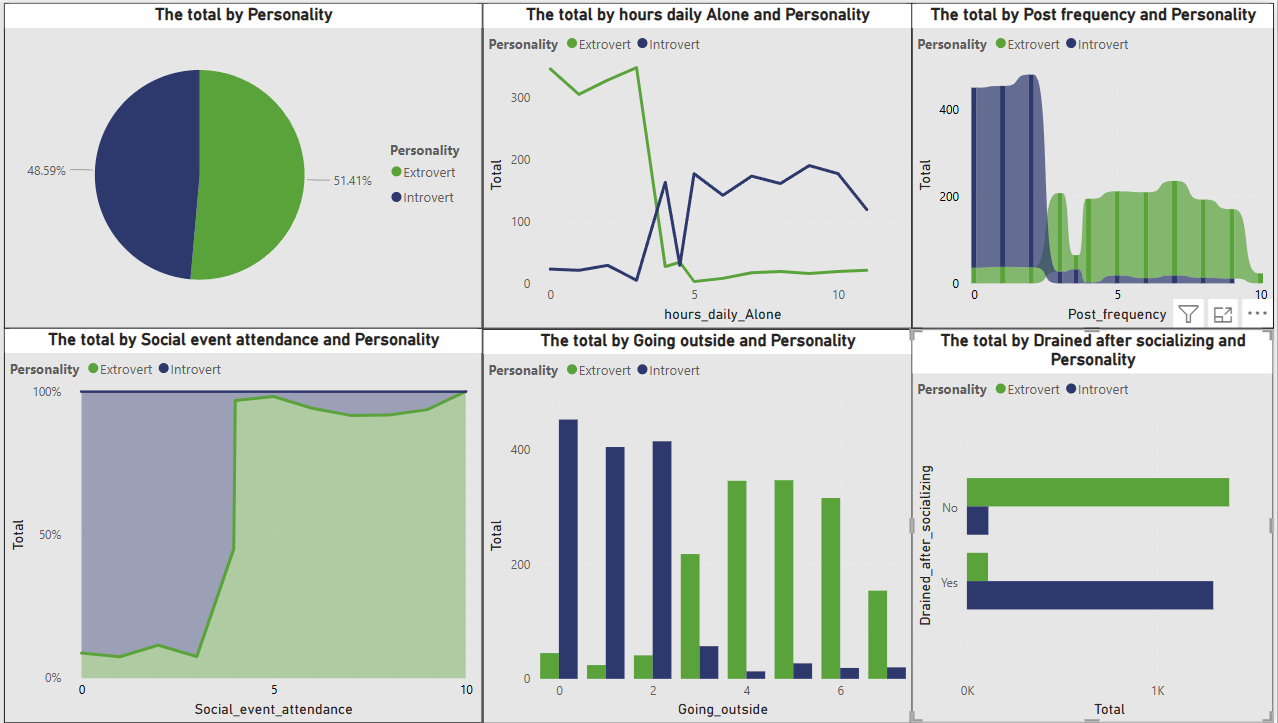

Layout of this report page (visuals, bound fields, positions):
{"tool":"powerbi","page":{"name":"Page 1","canvas":[1280,720],"ordinal":0},"visuals":[{"type":"pieChart","title":"The total by Personality","fields":{"Y":["Count(Query1.index)"],"Category":["Query1.Personality"]},"box":[10.4,0,478.3,325.3],"z":0},{"type":"lineChart","title":"The total by hours daily Alone and Personality","fields":{"Category":["Query1.hours_daily_Alone"],"Y":["Count(Query1.index)"],"Series":["Query1.Personality"]},"box":[488.7,0,429.2,325.3],"z":1},{"type":"hundredPercentStackedAreaChart","title":"The total by Social event attendance and Personality","fields":{"Category":["Query1.Social_event_attendance"],"Y":["Count(Query1.index)"],"Series":["Query1.Personality"]},"box":[10.4,325.3,478.3,395.1],"z":2},{"type":"clusteredColumnChart","title":"The total by Going outside and Personality","fields":{"Category":["Query1.Going_outside"],"Series":["Query1.Personality"],"Y":["Count(Query1.index)"]},"box":[488.6,325.7,429.5,394.5],"z":3},{"type":"clusteredBarChart","title":"The total by Drained after socializing and Personality","fields":{"Series":["Query1.Personality"],"Y":["Count(Query1.index)"],"Category":["Query1.Drained_after_socializing"]},"box":[918.1,325.7,361.9,394.5],"z":4},{"type":"ribbonChart","title":"The total by Post frequency and Personality","fields":{"Category":["Query1.Post_frequency"],"Y":["Count(Query1.index)"],"Series":["Query1.Personality"]},"box":[917.9,0,362.4,325.3],"z":5}]}

Visuals, with their boxes in screenshot pixels (x1, y1, x2, y2), scaled from the page's 1280x720 canvas onto the 1278x723 screenshot:
"The total by Personality" pieChart: [10,0,488,327]
"The total by hours daily Alone and Personality" lineChart: [488,0,916,327]
"The total by Social event attendance and Personality" hundredPercentStackedAreaChart: [10,327,488,722]
"The total by Going outside and Personality" clusteredColumnChart: [488,327,917,722]
"The total by Drained after socializing and Personality" clusteredBarChart: [917,327,1277,722]
"The total by Post frequency and Personality" ribbonChart: [916,0,1277,327]
